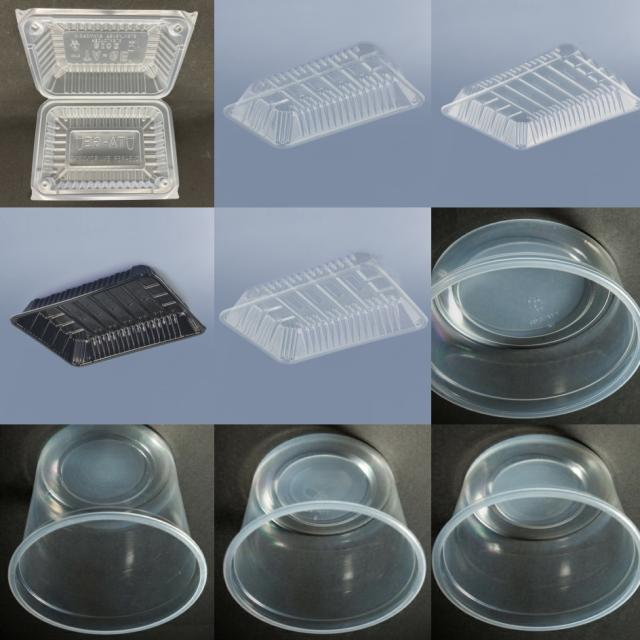plastik: (432, 219, 640, 418), (9, 425, 207, 634), (432, 435, 640, 631), (224, 434, 426, 634), (18, 9, 196, 200), (220, 254, 427, 364), (224, 45, 424, 148), (442, 46, 640, 149), (10, 266, 206, 367)
